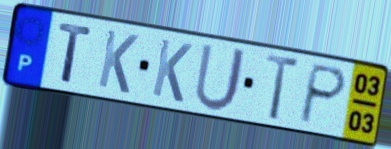K: (95, 27, 141, 97), (149, 36, 195, 106)
P: (296, 61, 350, 127)
T: (262, 51, 302, 123), (56, 20, 95, 86)
U: (192, 41, 249, 114)
